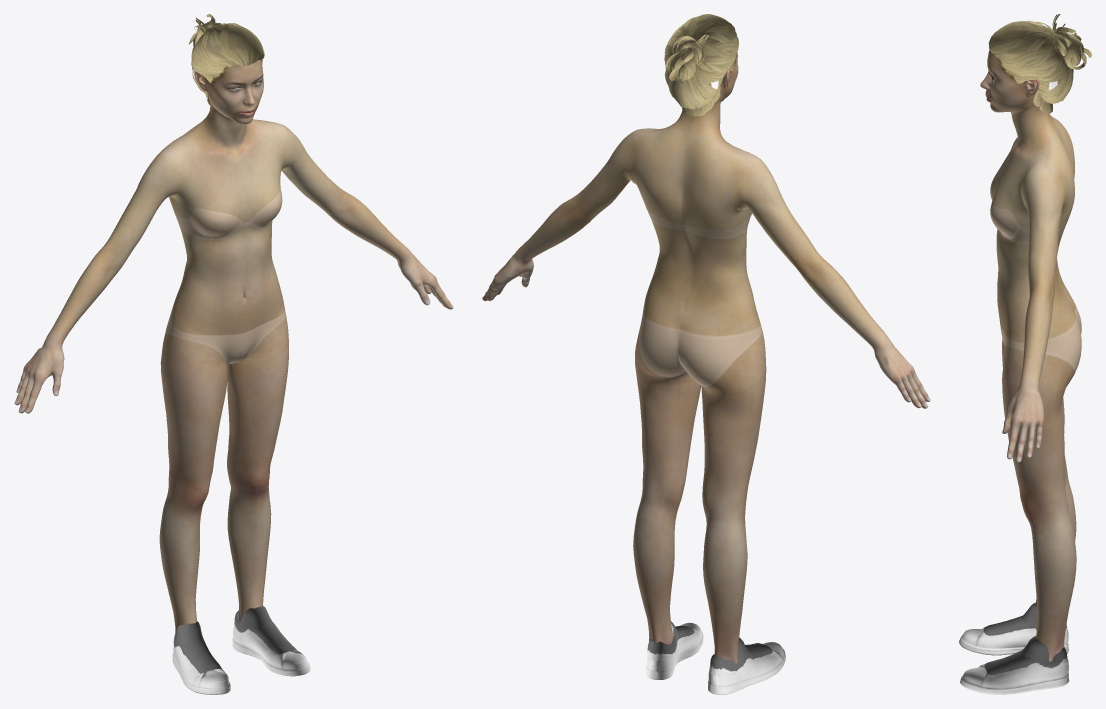
Rendered from abcd.fbx.
3 views of the same model, side by side, from view 1: azimuth 30°, elevation 25°; view 2: azimuth 150°, elevation 25°; view 3: azimuth 270°, elevation 25° (orthographic). The views are drawn at different scales.
Visible parts, largest first — view 1: body, hair_Shape, shoes_l_Shape, shoes_r_Shape; view 2: body, hair_Shape, shoes_r_Shape, shoes_l_Shape; view 3: body, hair_Shape, shoes_l_Shape, shoes_r_Shape.
Boxes of the visible parts, x1,y1,x2,y2 form: body: [14, 60, 453, 639]; hair_Shape: [189, 14, 264, 104]; shoes_l_Shape: [232, 605, 310, 676]; shoes_r_Shape: [172, 621, 230, 694]; body: [482, 52, 930, 663]; hair_Shape: [664, 14, 738, 116]; shoes_r_Shape: [708, 637, 785, 694]; shoes_l_Shape: [646, 621, 703, 679]; body: [980, 50, 1081, 661]; hair_Shape: [988, 14, 1091, 113]; shoes_l_Shape: [960, 636, 1069, 694]; shoes_r_Shape: [959, 603, 1068, 655].
Size of the model in its own units: 1271 by 1801 by 336.
